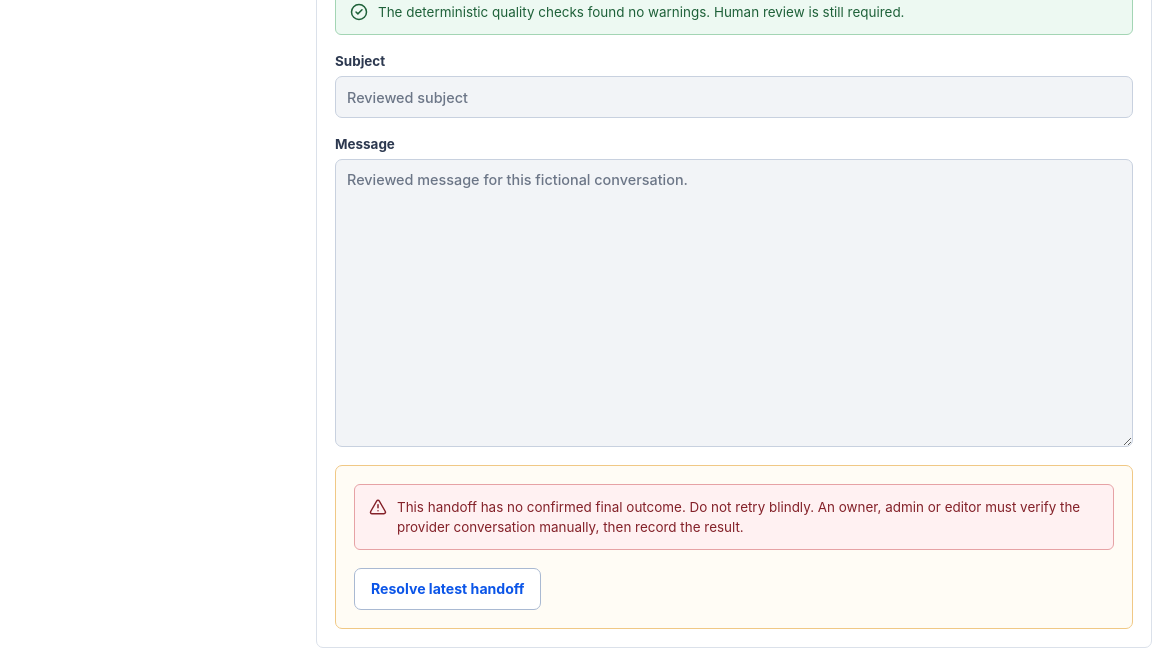
Test: personal manual-outcome confirmation › keeps the handoff and warning after damaged success {}
(page scrolled)
Click the button "Resolve latest handoff": (448, 589) [354,568,542,610]
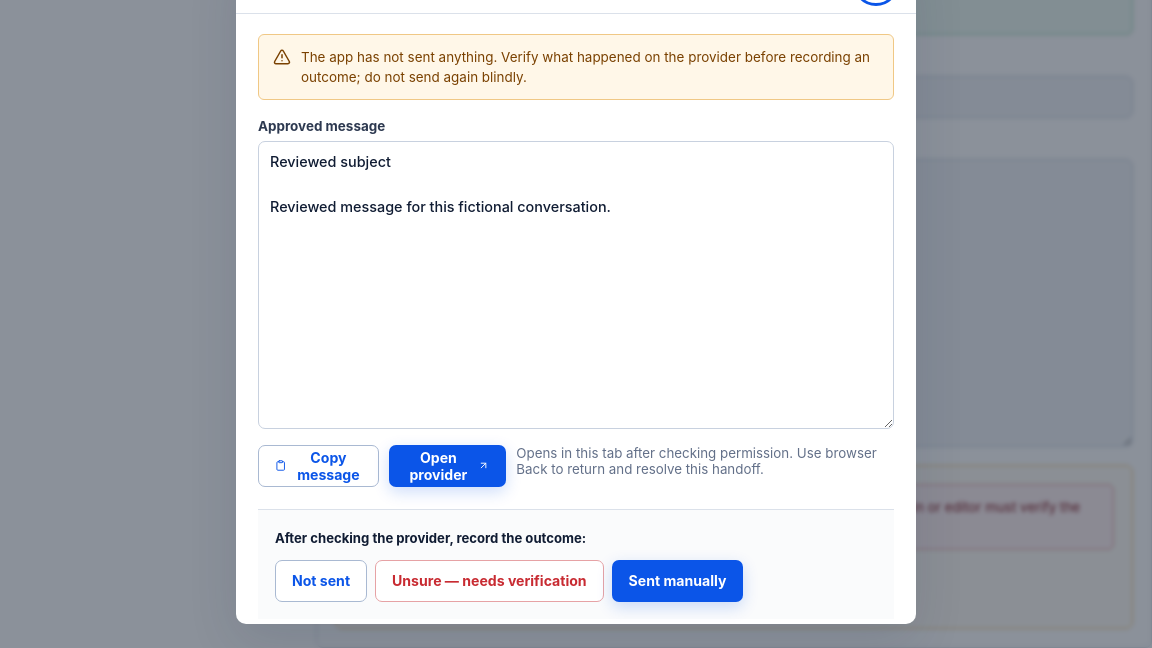
Click the button "Sent manually": (678, 581) [612,560,743,602]
(page scrolled)
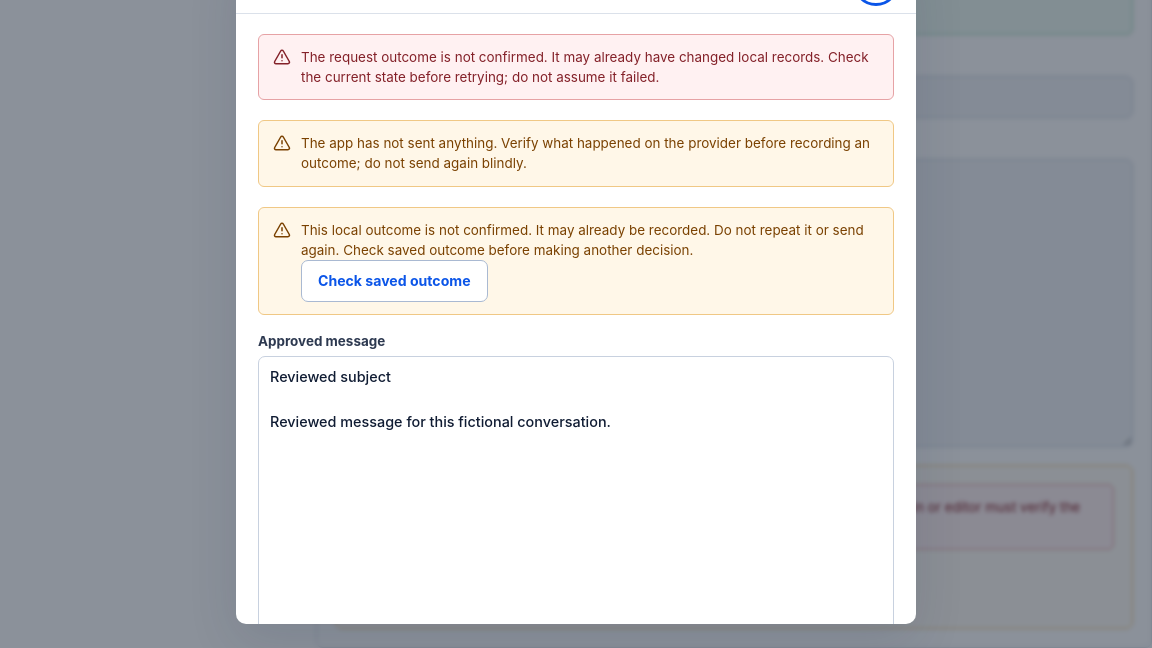
Result: the text "request outcome is not confirmed" is shown at [301,49,869,85]
